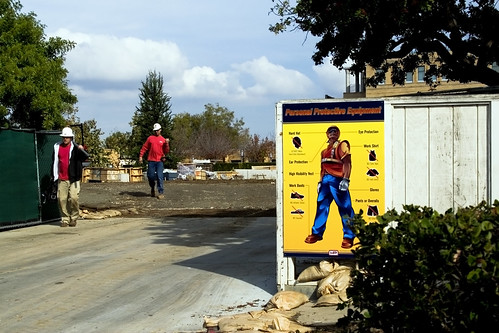person hardhat: (54, 127, 88, 236), (140, 121, 170, 206)
